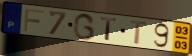7: (47, 9, 68, 36)
9: (153, 22, 171, 49)
F: (22, 7, 46, 33)
G: (72, 12, 97, 41)
T: (99, 17, 119, 42), (130, 20, 149, 46)
